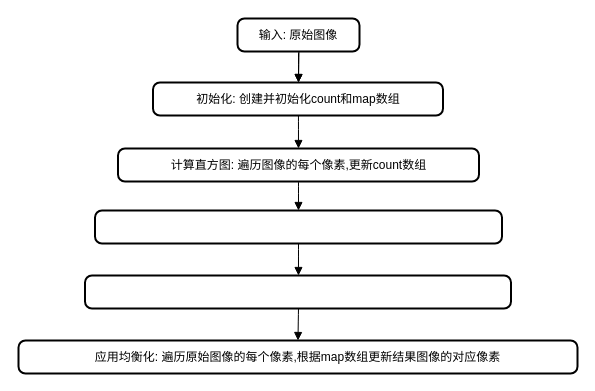
This 595x391 diagram has some shape labels left out. Here are the shapes that lost their labels. From the top down, the centre of each, then its label:
At pixel 298 226: "计算累积分布函数: 遍历count数组,计算并填充map数组".
At pixel 298 291: "创建结果图像: 根据原始图像创建一个新的同样大小的图像".
